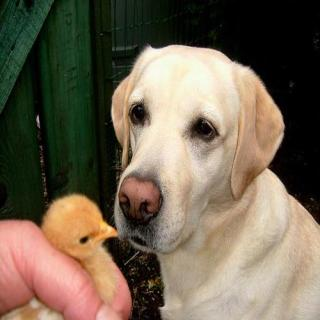dog: (104, 42, 284, 263)
nose: (115, 176, 163, 230)
